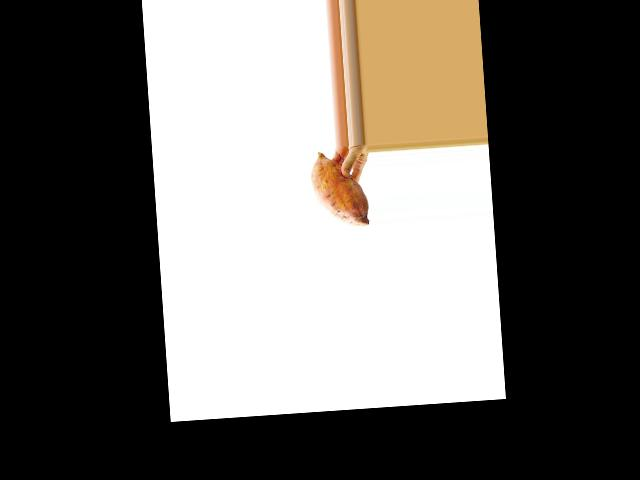sweet_potato: (304, 151, 372, 231)
